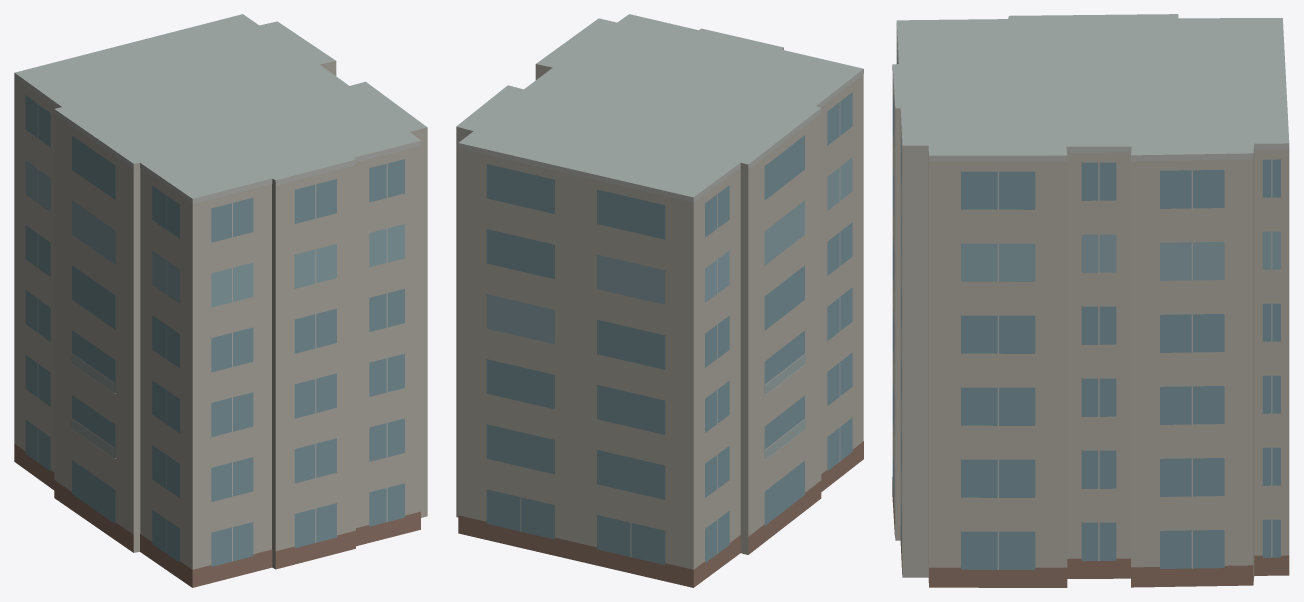
Rendered from survey-upis-32840732.glb.
3 renders of one model, left to right at view 1: azimuth 30°, elevation 25°; view 2: azimuth 150°, elevation 25°; view 3: azimuth 270°, elevation 25°, orthographic. The views are drawn at different scales.
Parts seen in each view (by area): view 1: survey-upis-32840732.tmp; view 2: survey-upis-32840732.tmp; view 3: survey-upis-32840732.tmp.
Part boxes in pixels (left/top/right/bottom): survey-upis-32840732.tmp: left=14, top=14, right=427, bottom=587; survey-upis-32840732.tmp: left=456, top=14, right=863, bottom=587; survey-upis-32840732.tmp: left=892, top=14, right=1289, bottom=587.
Bounding box in the file's own units: 12.67 × 18 × 14.99.
